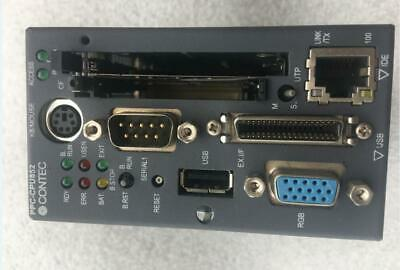Ethernet: (312, 47, 378, 105)
USB: (175, 168, 238, 198)
VGA: (270, 169, 344, 208)
